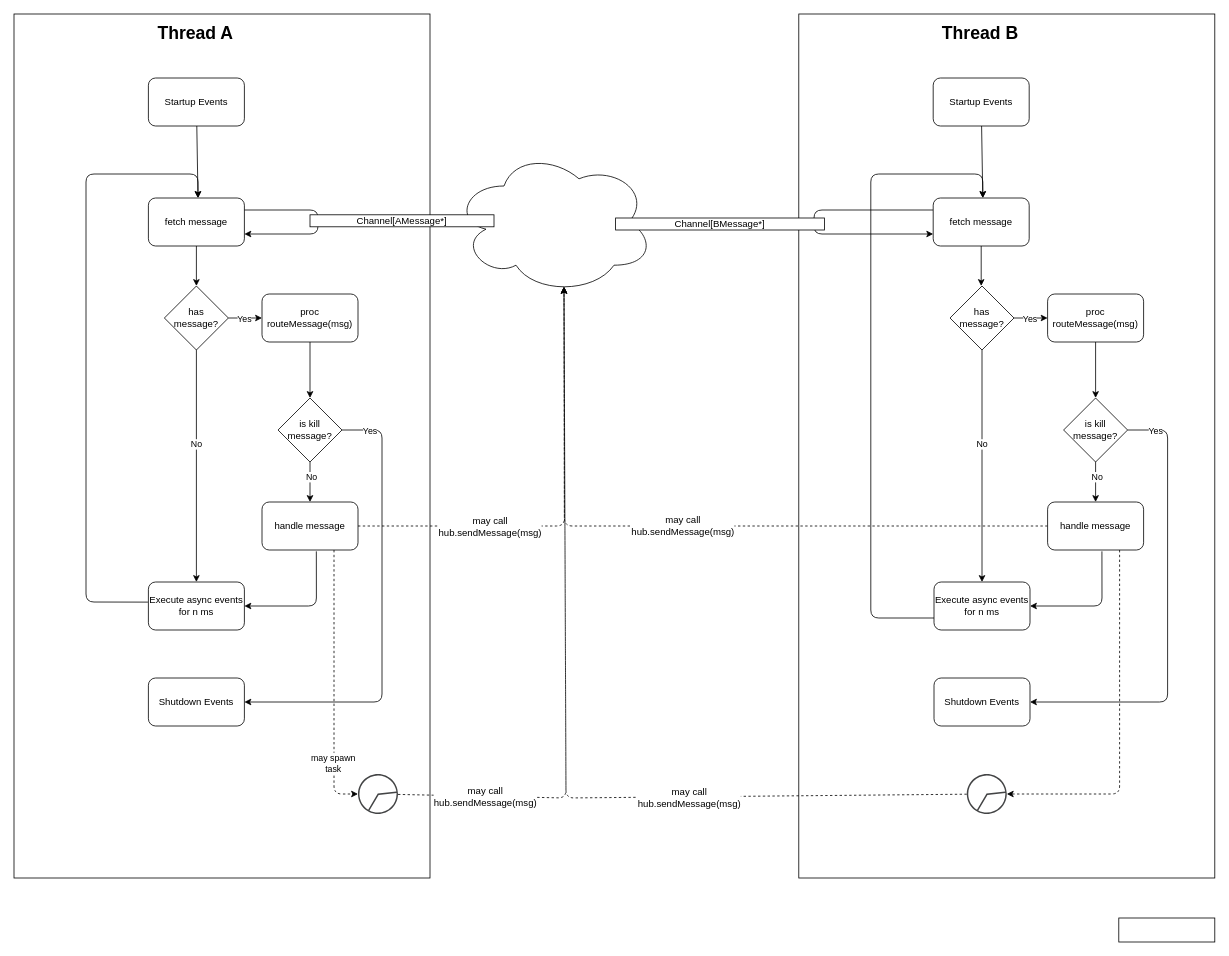
Image size: 1229x956. Some labels were removed from this diagram. The shapes that lost their labels are listed below. From the top down, each one's centre as x and y in pixels, then its label:
At (x=553, y=221): "ChannelHub".
At (x=378, y=794): "ThreadPool A".
At (x=986, y=794): "ThreadPool B".
At (x=1166, y=929): "* : Object variant".
